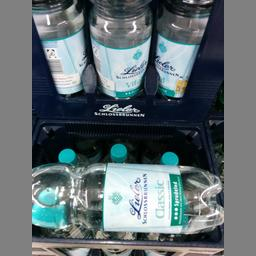water: (31, 162, 223, 234), (87, 0, 151, 97), (154, 0, 210, 98), (31, 0, 87, 96)
